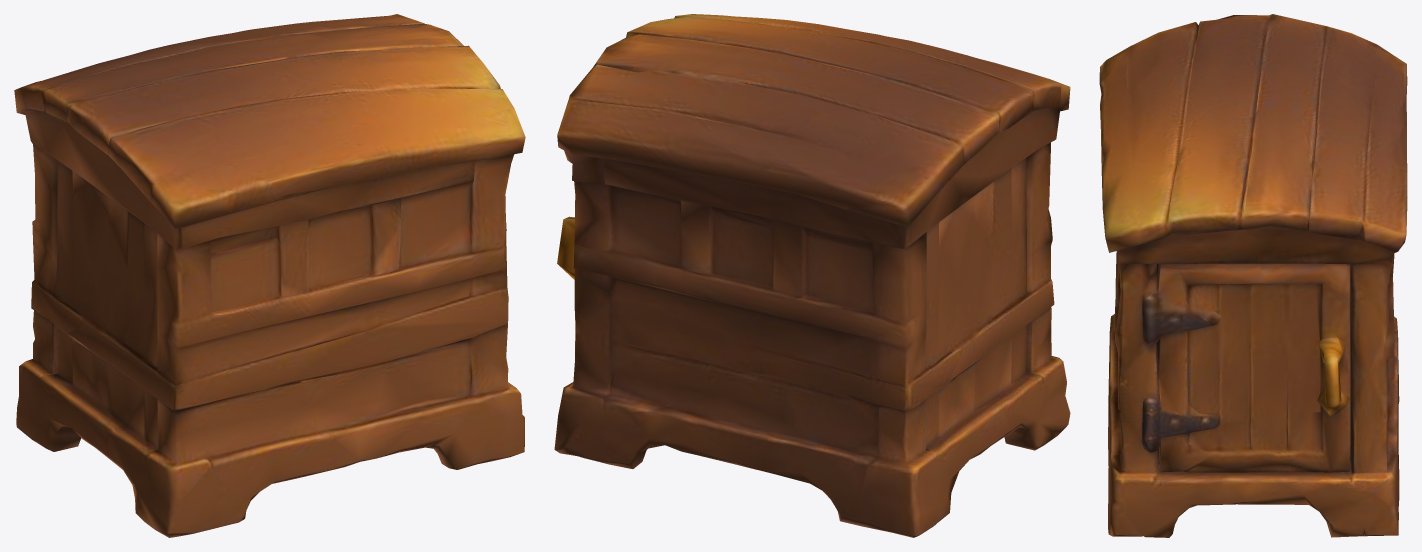
Rendered from model-prop-companion-hutch-01.glb.
3 views of the same model, side by side, from view 1: azimuth 30°, elevation 25°; view 2: azimuth 150°, elevation 25°; view 3: azimuth 270°, elevation 25° (orthographic). The views are drawn at different scales.
Parts seen in each view (by area): view 1: tripo_node_8b86a385-329f-420c-bc4f-5878b811bd6c; view 2: tripo_node_8b86a385-329f-420c-bc4f-5878b811bd6c; view 3: tripo_node_8b86a385-329f-420c-bc4f-5878b811bd6c.
Boxes of the visible parts, x1,y1,x2,y2 form: tripo_node_8b86a385-329f-420c-bc4f-5878b811bd6c: [14, 14, 525, 537]; tripo_node_8b86a385-329f-420c-bc4f-5878b811bd6c: [554, 14, 1070, 537]; tripo_node_8b86a385-329f-420c-bc4f-5878b811bd6c: [1099, 14, 1407, 537].
Bounding box in the file's own units: 0.6643 × 0.6 × 0.4684.
Materials: 1 (1 with a texture image).
